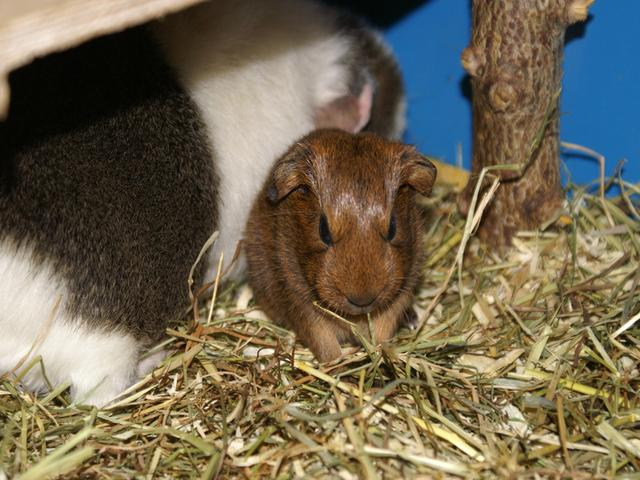mouse: (232, 108, 446, 375)
